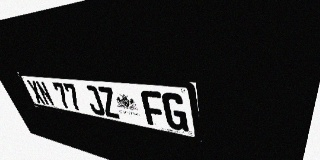7: (62, 83, 85, 112), (51, 82, 73, 110)
F: (140, 90, 167, 128)
G: (161, 92, 189, 132)
J: (82, 85, 106, 116)
N: (35, 81, 55, 106)
X: (26, 80, 46, 105)
Z: (96, 86, 121, 119)
